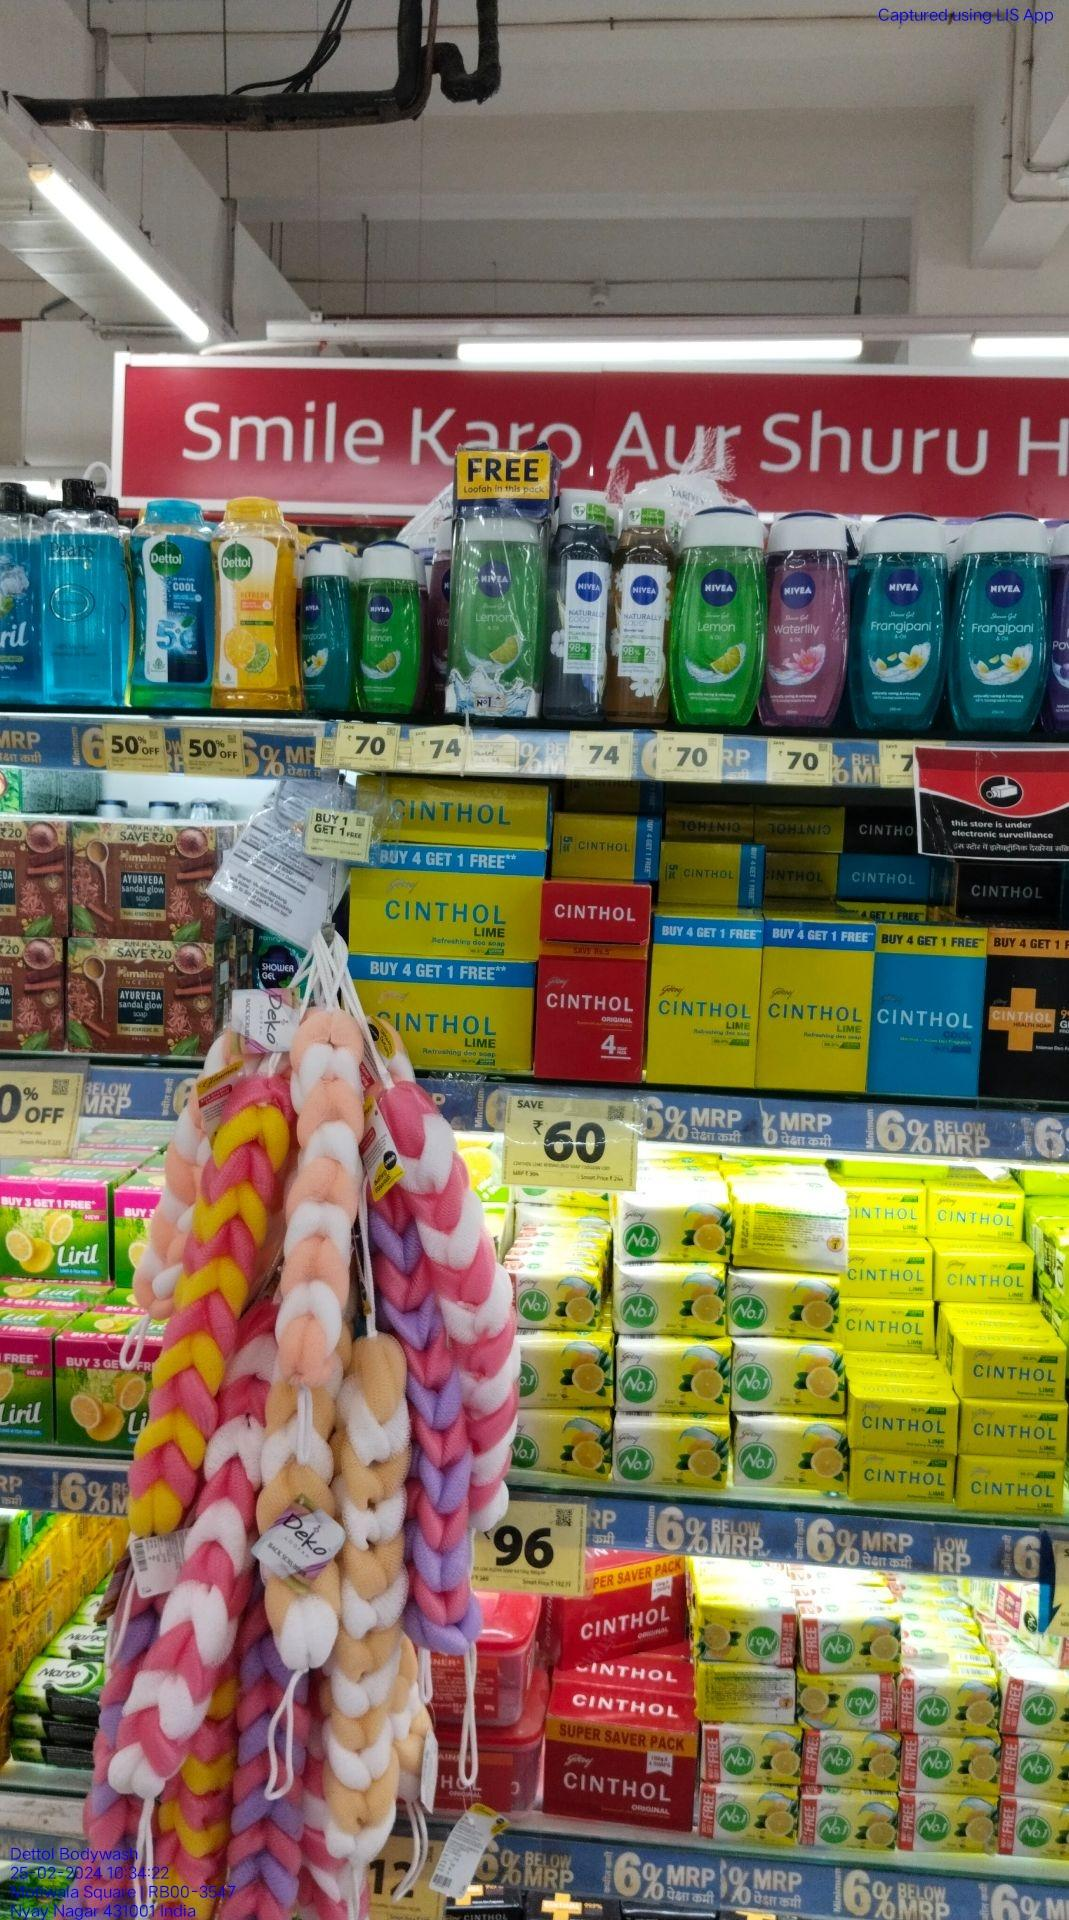Dettol_Bodywash_Cool: (138, 503, 217, 703)
Dettol_Bodywash_Refresh: (221, 493, 294, 715)
Nivea_Shower_Gel_Frangipani_and_Oil_250ML: (960, 511, 1045, 726), (861, 515, 939, 732)
Nivea_Shower_Gel_Lemon_and_Oil_250ML: (677, 513, 758, 722)
Nivea_Shower_Gel_Waterlily_and_Oil_250ML: (770, 513, 845, 721)
Pears_Pure_Glycerin_and_Mint_Extracts_Body_Wash_250ML: (46, 478, 122, 700)
